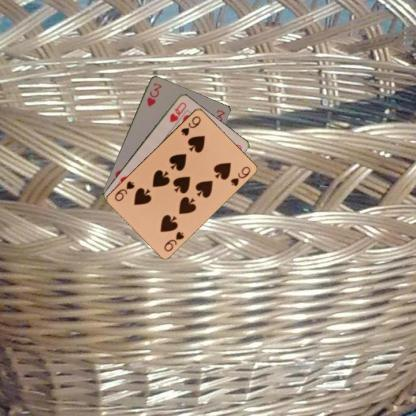3h: (144, 80, 163, 107)
9s: (178, 113, 202, 137), (161, 229, 186, 252)
Qh: (167, 99, 188, 123)
